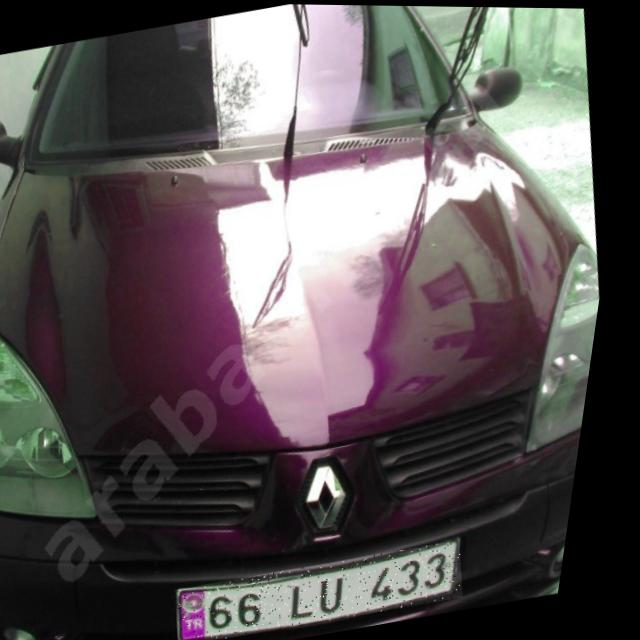license_plate: (187, 535, 487, 640)
